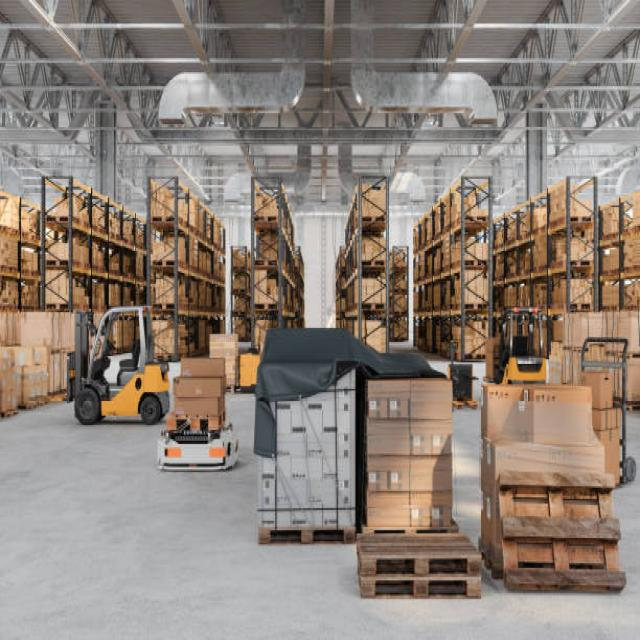Wooden-Pallets: (499, 466, 633, 595), (353, 570, 485, 619), (358, 536, 486, 583), (249, 512, 357, 565)
